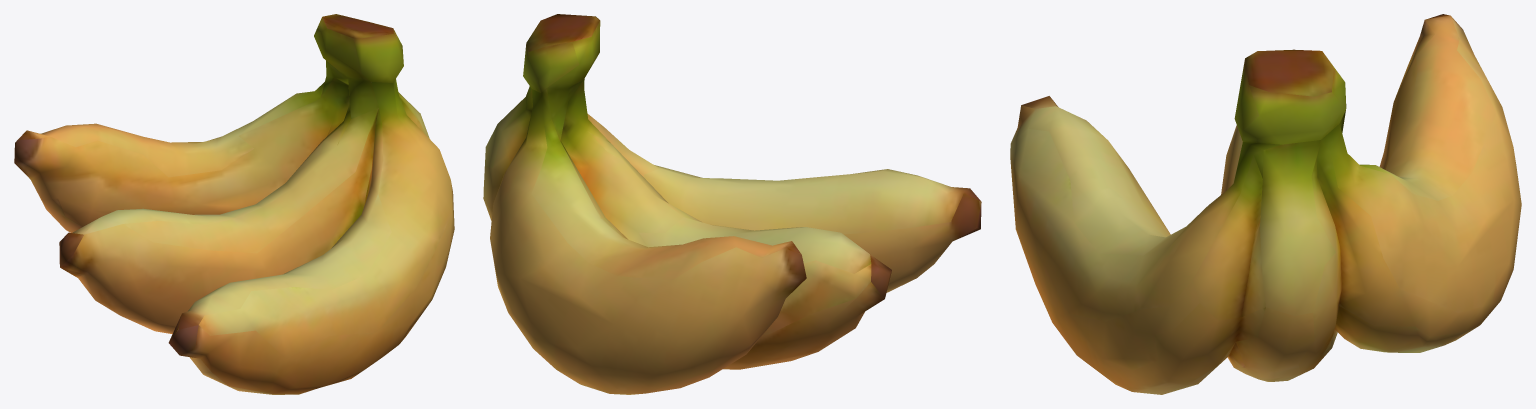
Rendered from banana.glb.
The picture shows the model from 3 angles, left to right: view 1: azimuth 30°, elevation 25°; view 2: azimuth 150°, elevation 25°; view 3: azimuth 270°, elevation 25°; orthographic projection. The views are drawn at different scales.
Visible parts, largest first — view 1: textured_mesh.obj; view 2: textured_mesh.obj; view 3: textured_mesh.obj.
Boxes of the visible parts, <box> form: textured_mesh.obj: <box>14,14,454,394</box>; textured_mesh.obj: <box>483,14,981,394</box>; textured_mesh.obj: <box>1010,14,1521,394</box>.
Size of what is drawn, in the model's own units: 0.3481 by 0.26 by 0.3338.
1 material, 1 textured.
